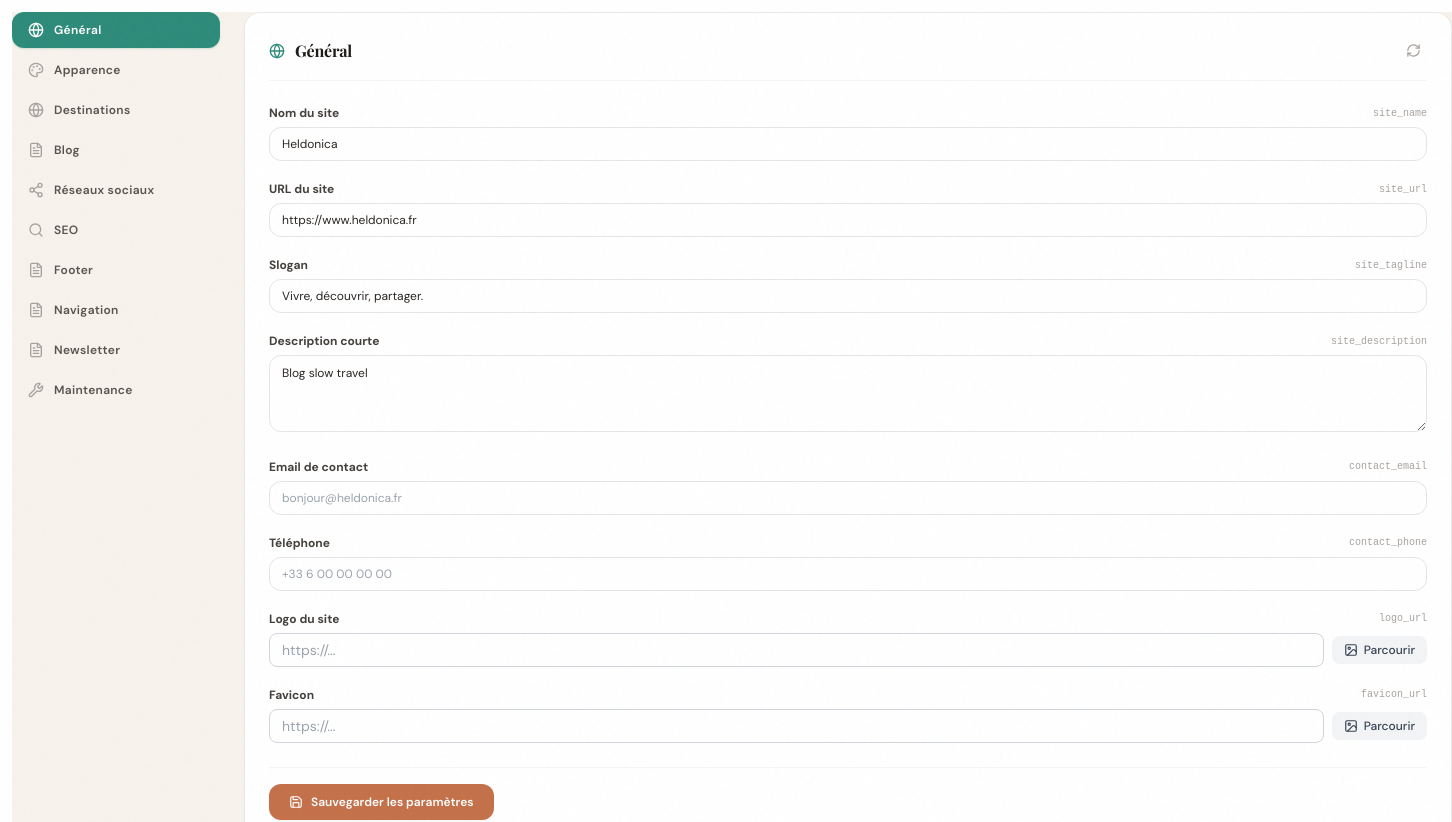
Scenario: CmsSettingsPanel › saves settings on save button click
Expected: the field showing "Heldonica" below "Nom du site" is shown, left=269, top=127, right=1427, bottom=161
What coordinates should you click on to do the following:
click the button "Sauvegarder les paramètres"
I would click on:
 (381, 802)
Its box is left=269, top=784, right=494, bottom=820.
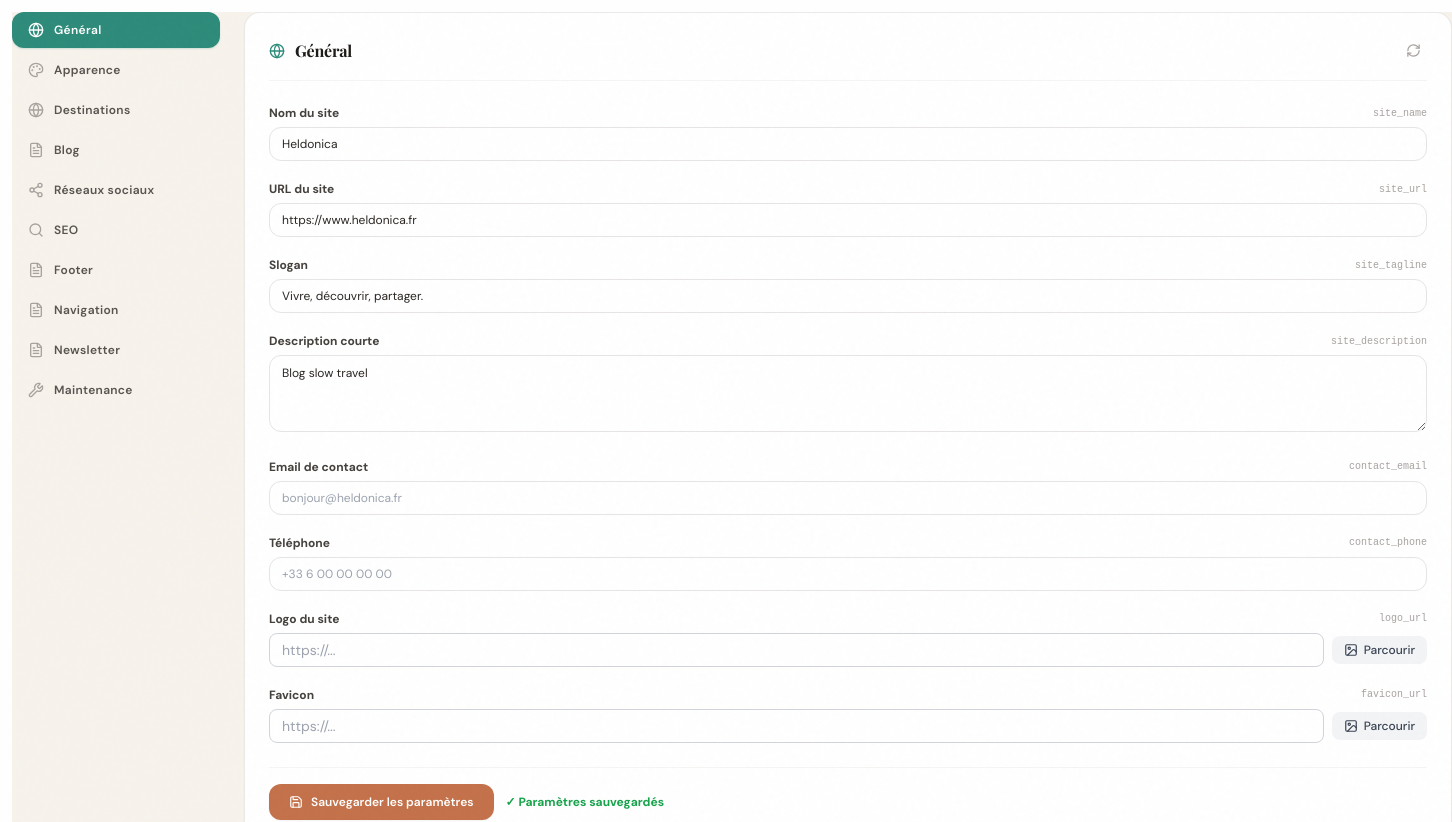
Result: the text "✓ Paramètres sauvegardés" is shown at left=506, top=794, right=664, bottom=810
